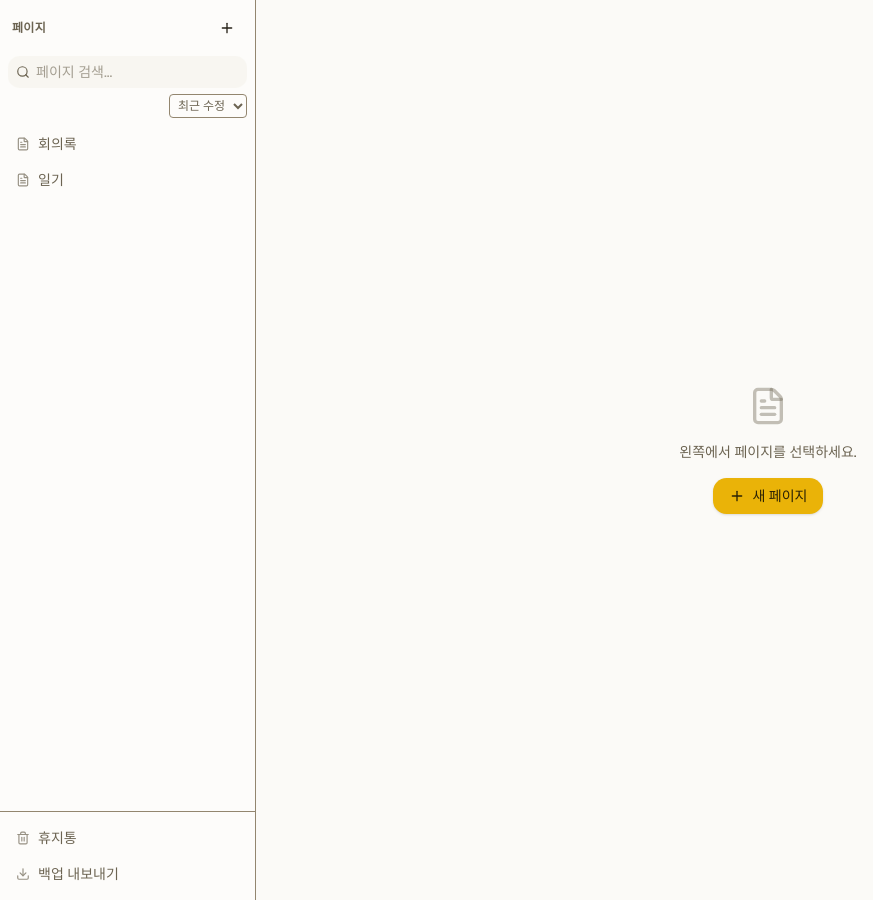
Test: PageWorkspace — 검색·정렬 › 검색어로 트리를 필터링한다
The image size is (873, 900).
Check: the text "회의록" is shown, box [38,134,77,154]
Type "일기" into the search field labelled "페이지 검색" at point(128, 72), box [8,56,247,88]
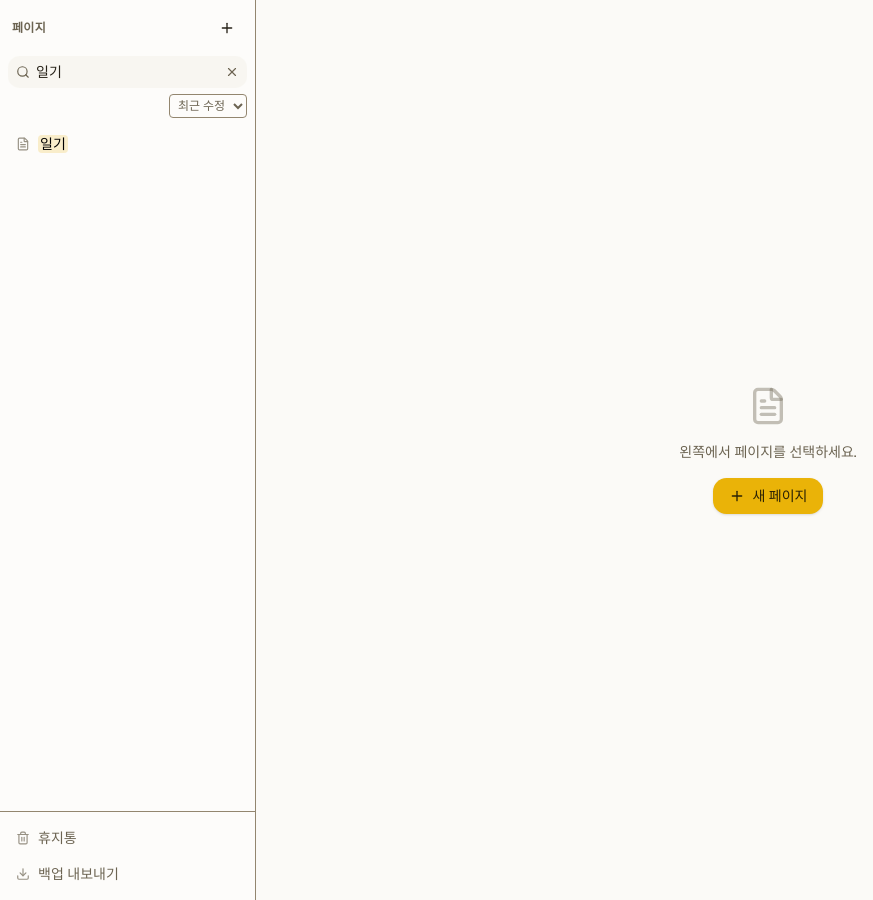
Check: the text "일기" is shown, box [38,135,68,153]
Check: the link "회의록" is gone
